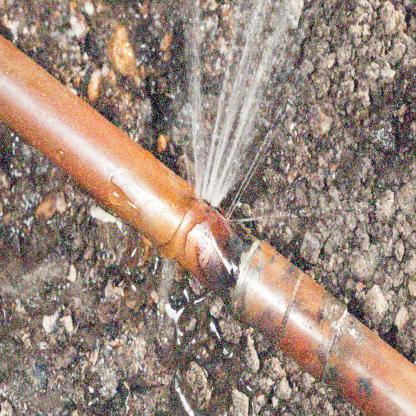burst: (158, 157, 253, 241)
